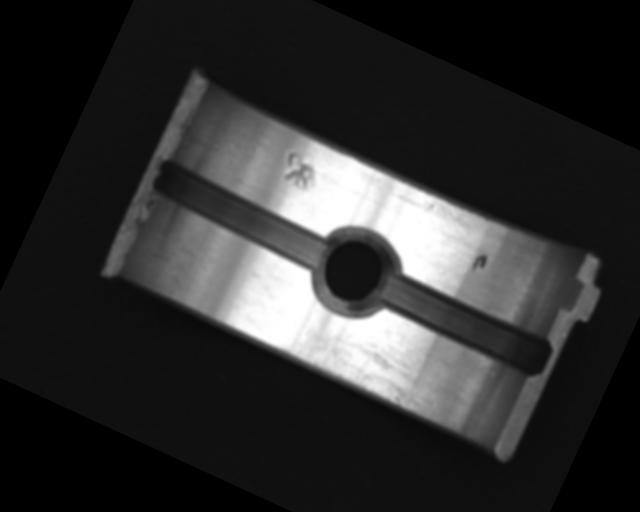blot: (471, 252, 490, 276)
bruise: (277, 149, 323, 193)
gap: (144, 153, 336, 274), (373, 266, 557, 381)
hole: (298, 213, 410, 330)
scratch: (273, 301, 454, 421)
